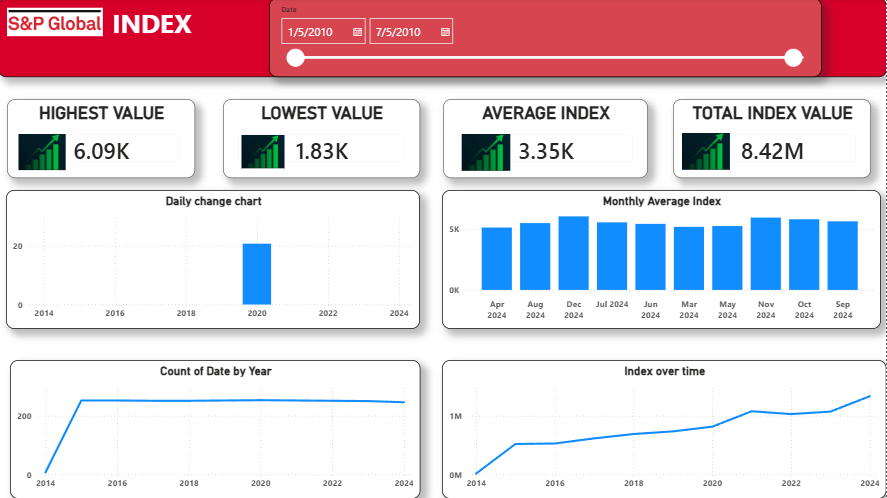

This screenshot's page, from the dashboard's own definition file:
{"tool":"powerbi","page":{"name":"Index","canvas":[1280,720],"ordinal":1},"visuals":[{"type":"textbox","box":[0,0,1280.2,113.8],"z":0},{"type":"image","box":[13,0,138.2,69.1],"z":1000},{"type":"cardVisual","title":"HIGHEST  VALUE ","fields":{"Data":["Max(Index.S&P500)"]},"box":[13,145.4,270.7,113.8],"z":2000},{"type":"cardVisual","title":"LOWEST VALUE","fields":{"Data":["Min(Index.S&P500)"]},"box":[324,145.4,283.7,113.8],"z":3000},{"type":"cardVisual","title":"AVERAGE INDEX","fields":{"Data":["Avg(Index.S&P500)"]},"box":[640.8,145.4,295.2,113.8],"z":4000},{"type":"cardVisual","title":"TOTAL INDEX VALUE","fields":{"Data":["Sum(Index.S&P500)"]},"box":[972,145.4,285.1,113.8],"z":5000},{"type":"image","box":[24.5,195.8,77.8,51.8],"z":6000},{"type":"image","box":[985,194.4,69.1,53.3],"z":7000},{"type":"image","box":[345.6,197.3,72,47.5],"z":8000},{"type":"image","box":[666.7,195.8,72,53.3],"z":9000},{"type":"lineChart","title":"Index over time","fields":{"Y":["Sum(Index.S&P500)"],"Category":["Index.Date.Variation.Date Hierarchy.Year","Index.Date.Variation.Date Hierarchy.Quarter","Index.Date.Variation.Date Hierarchy.Month","Index.Date.Variation.Date Hierarchy.Day"]},"box":[640,520.7,640,199.9],"z":10000},{"type":"lineChart","fields":{"Category":["Index.Date.Variation.Date Hierarchy.Year","Index.Date.Variation.Date Hierarchy.Quarter","Index.Date.Variation.Date Hierarchy.Month","Index.Date.Variation.Date Hierarchy.Day"],"Y":["CountNonNull(Index.Date)"]},"box":[16.8,520.7,591.3,199.9],"z":11000},{"type":"columnChart","title":"Monthly Average Index","fields":{"Category":["Index.Month Year"],"Y":["Avg(Index.SP500_Value)"]},"box":[640,277.2,631.6,199.9],"z":12000},{"type":"clusteredColumnChart","title":"Daily change chart","fields":{"Category":["Index.Date.Variation.Date Hierarchy.Year","Index.Date.Variation.Date Hierarchy.Quarter","Index.Date.Variation.Date Hierarchy.Month","Index.Date.Variation.Date Hierarchy.Day"],"Y":["Index.Daily change"]},"box":[11.8,277.2,596.3,199.9],"z":12001},{"type":"slicer","fields":{"Values":["Stock.Date"]},"box":[389.7,0,796.2,114.2],"z":12002}]}

Visuals, with their boxes in screenshot pixels (x1, y1, x2, y2), scaled from the page's 1280x720 canvas onto the 887x498 screenshot:
textbox: select_region(0, 0, 886, 79)
image: select_region(9, 0, 105, 48)
"HIGHEST  VALUE " cardVisual: select_region(9, 101, 197, 179)
"LOWEST VALUE" cardVisual: select_region(225, 101, 421, 179)
"AVERAGE INDEX" cardVisual: select_region(444, 101, 649, 179)
"TOTAL INDEX VALUE" cardVisual: select_region(674, 101, 871, 179)
image: select_region(17, 135, 71, 171)
image: select_region(683, 134, 730, 171)
image: select_region(239, 136, 289, 169)
image: select_region(462, 135, 512, 172)
"Index over time" lineChart: select_region(444, 360, 886, 497)
lineChart - Index.Date.Variation.Date Hierarchy.Year x Index.Date.Variation.Date Hierarchy.Quarter: select_region(12, 360, 421, 497)
"Monthly Average Index" columnChart: select_region(444, 192, 881, 330)
"Daily change chart" clusteredColumnChart: select_region(8, 192, 421, 330)
slicer - Stock.Date: select_region(270, 0, 822, 79)
